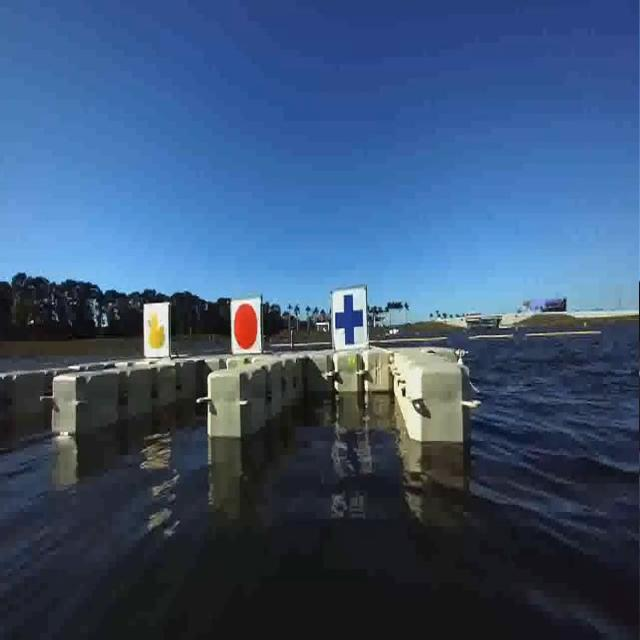blue-cross: (328, 282, 371, 353)
red-dot: (228, 292, 264, 357)
yellow-duck: (143, 304, 172, 358)
